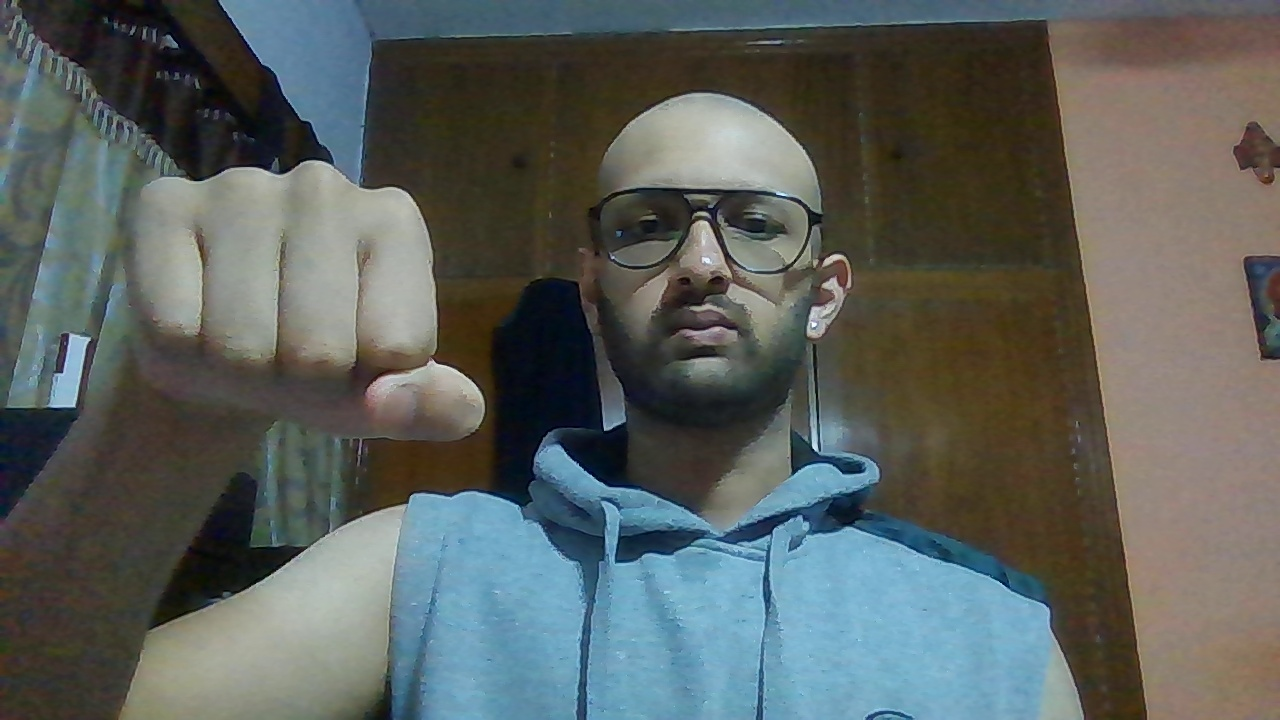Yes: (117, 149, 493, 445)
